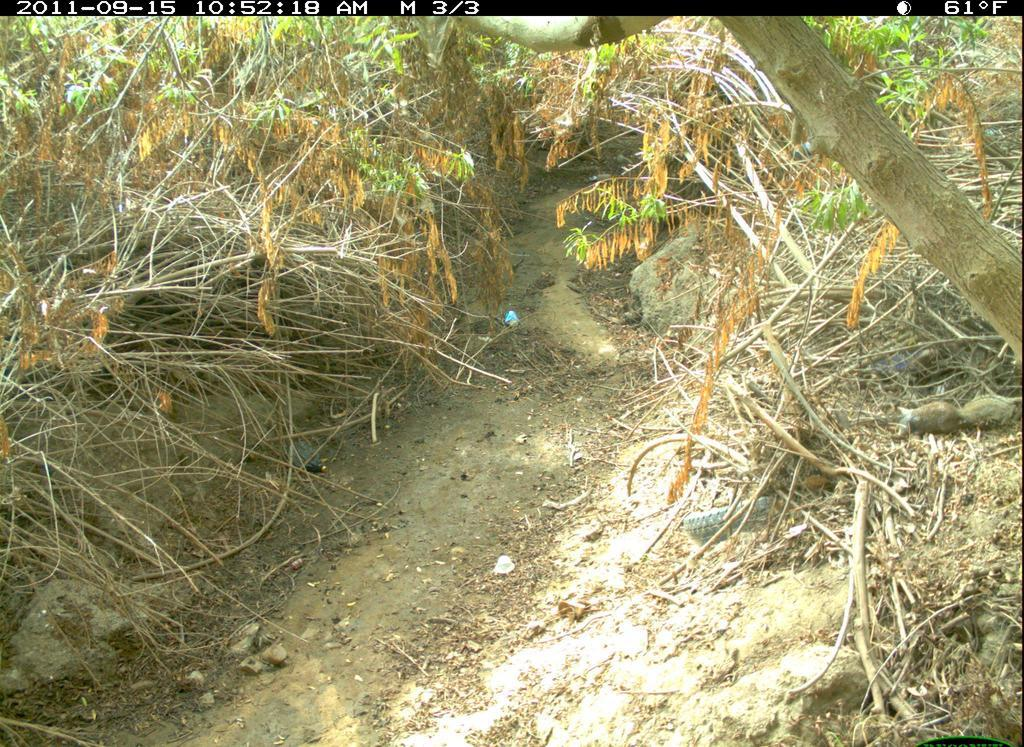squirrel: (894, 391, 1021, 442)
